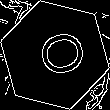O_W: (25, 27, 85, 83)
